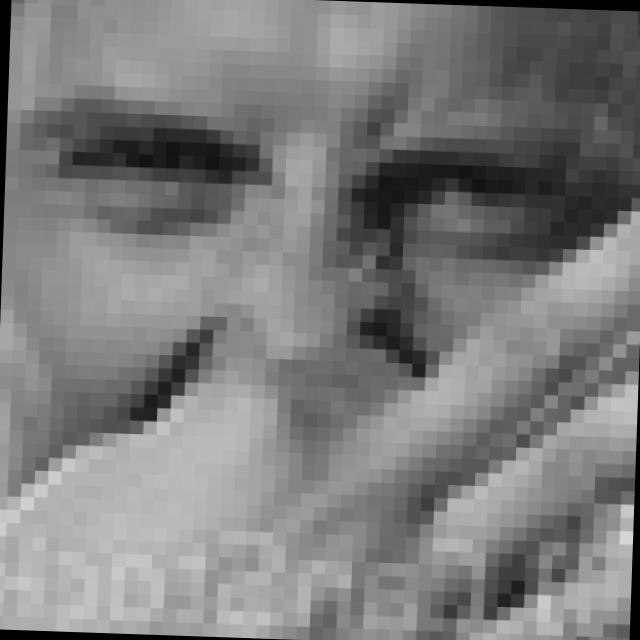disgust: (21, 0, 582, 517)
